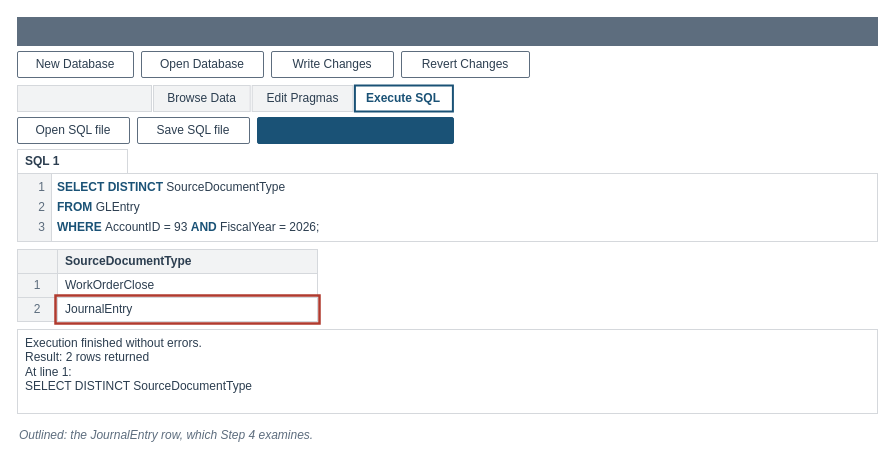
Some shapes in this 895 by 463 pixel diagram are drawn without their labels. The shapes that lost their labels are listed below. From the top down, each one's centre as x and y in pixels, then its label:
At (447,31): "DB Browser for SQLite - CharlesRiver_Work.sqlite".
At (84,98): "Database Structure".
At (355,130): "▶ Execute all/selected SQL".
